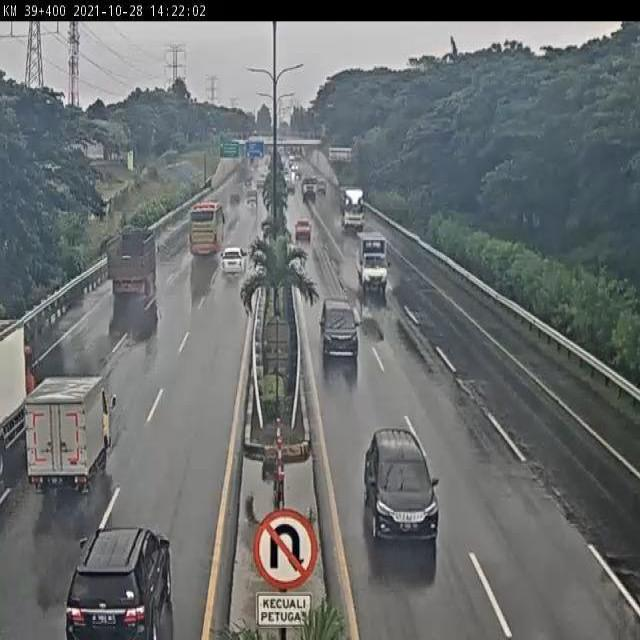big bus: (190, 205, 223, 259)
car: (63, 528, 173, 639), (362, 430, 438, 542), (320, 299, 361, 361), (219, 247, 247, 280), (293, 218, 313, 242)
truck-l-: (339, 188, 366, 227)
truck-m-: (105, 229, 158, 300)
truck-s-: (24, 376, 112, 492), (355, 230, 391, 294)
